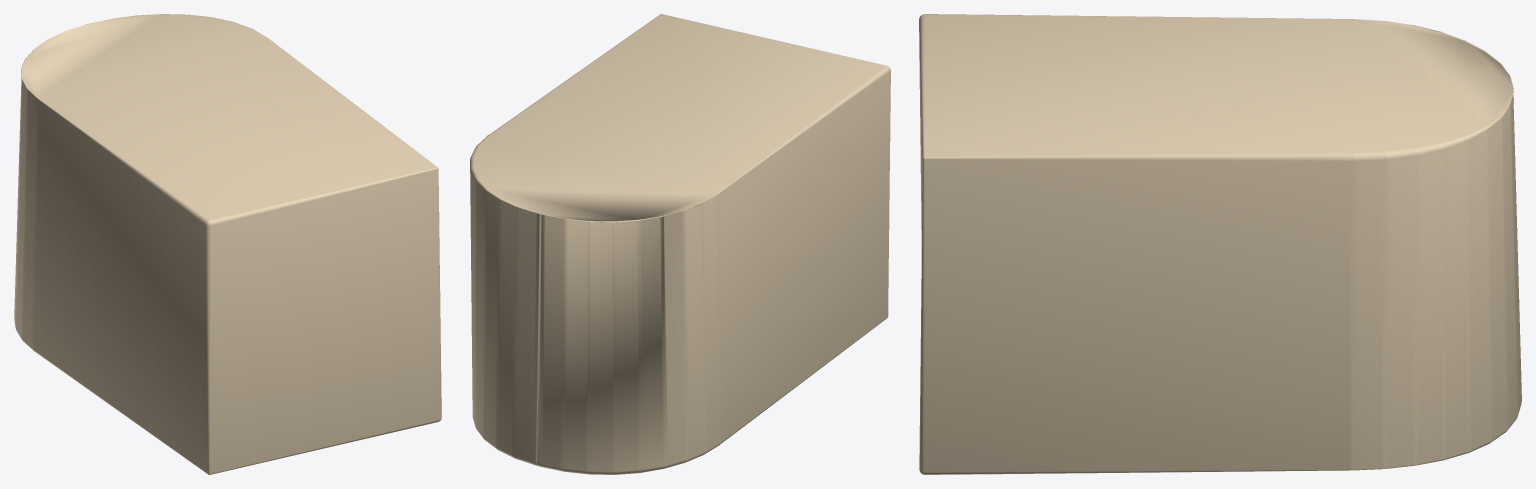
File: BORD_KOPF.glb
The picture shows the model from 3 angles, left to right: view 1: azimuth 30°, elevation 25°; view 2: azimuth 150°, elevation 25°; view 3: azimuth 270°, elevation 25°; orthographic projection. The views are drawn at different scales.
Parts seen in each view (by area): view 1: BORD_KOPF; view 2: BORD_KOPF; view 3: BORD_KOPF.
Part boxes in pixels (box(x1,y1,x2,y2)): BORD_KOPF: box(14, 14, 441, 474); BORD_KOPF: box(470, 14, 890, 474); BORD_KOPF: box(919, 14, 1521, 474).
Bounding box in the file's own units: 0.4578 × 0.4809 × 0.8081.
